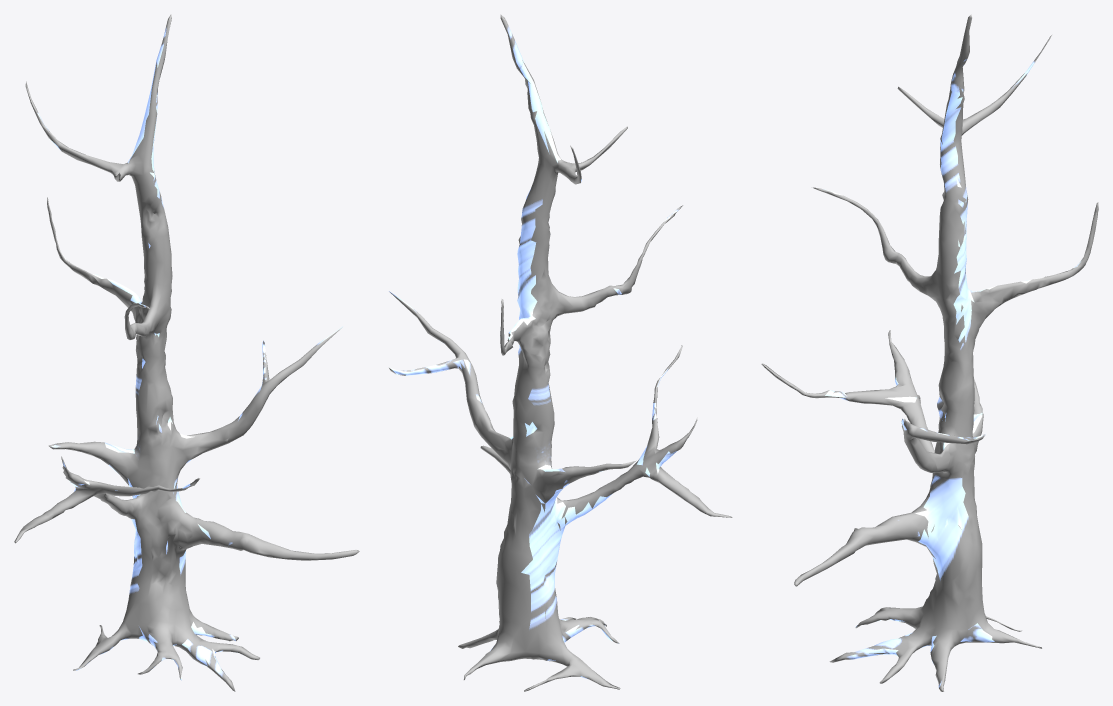
Rendered from SM_Tree_00.fbx.
The picture shows the model from 3 angles, left to right: view 1: azimuth 30°, elevation 25°; view 2: azimuth 150°, elevation 25°; view 3: azimuth 270°, elevation 25°; orthographic projection. The views are drawn at different scales.
Parts seen in each view (by area): view 1: SM_Tree_00; view 2: SM_Tree_00; view 3: SM_Tree_00.
Boxes of the visible parts, left/top/right/bottom form: SM_Tree_00: left=14, top=14, right=359, bottom=691; SM_Tree_00: left=389, top=14, right=732, bottom=691; SM_Tree_00: left=761, top=14, right=1098, bottom=691.
Bounding box in the file's own units: 1382 × 1187 × 2529.
